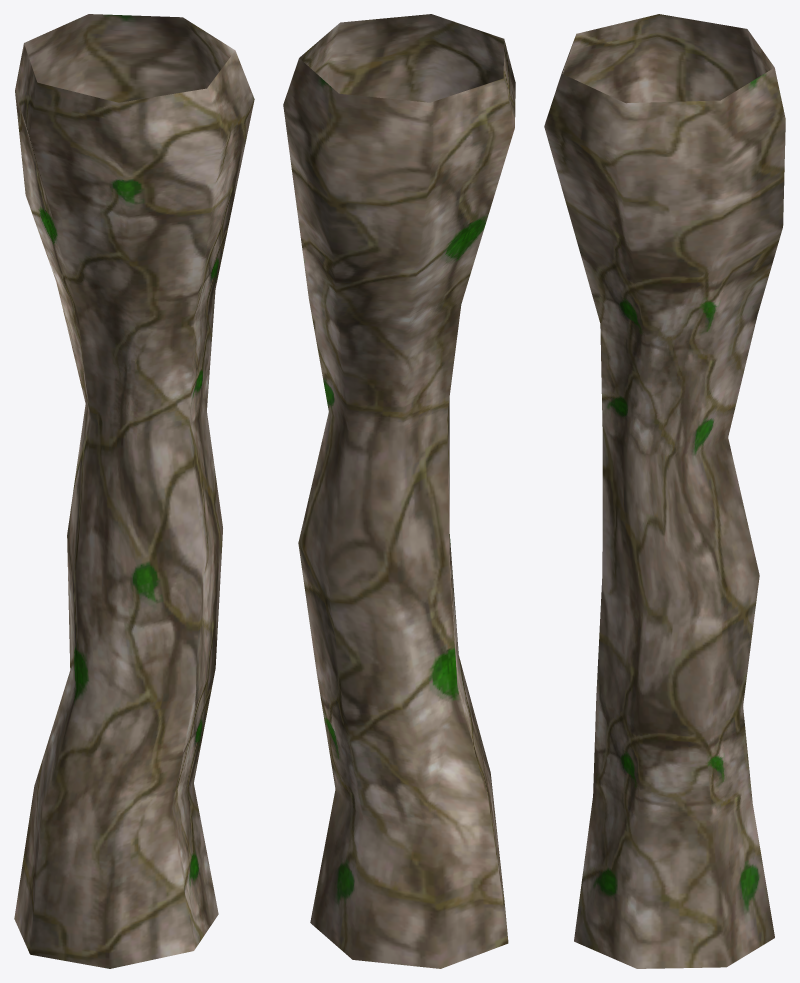
File: EKH_GROTTO_PS_GR_LINE195.fbx
3 views of the same model, side by side, from view 1: azimuth 30°, elevation 25°; view 2: azimuth 150°, elevation 25°; view 3: azimuth 270°, elevation 25° (orthographic).
Parts seen in each view (by area): view 1: EKH_GROTTO_PS_GR_LINE195; view 2: EKH_GROTTO_PS_GR_LINE195; view 3: EKH_GROTTO_PS_GR_LINE195.
Boxes of the visible parts, box(x1,y1,x2,y2) form: EKH_GROTTO_PS_GR_LINE195: box(14, 14, 254, 968); EKH_GROTTO_PS_GR_LINE195: box(283, 14, 515, 968); EKH_GROTTO_PS_GR_LINE195: box(544, 14, 785, 968).
Bounding box in the file's own units: 27110 × 109907 × 27386.
1 material, 1 textured.
